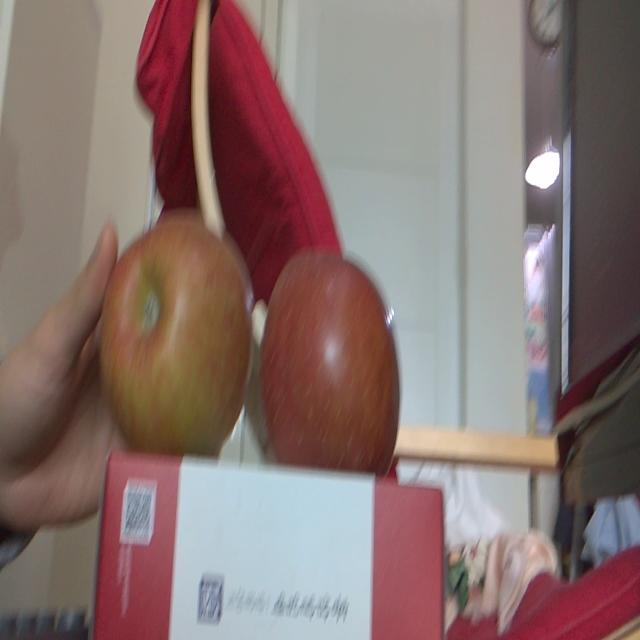apple: (103, 215, 254, 461), (259, 247, 409, 480)
